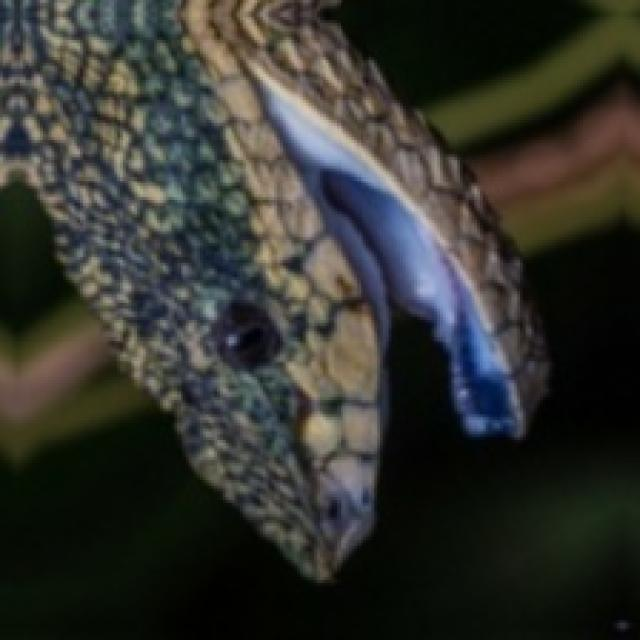north ph temple pitviper: (0, 0, 546, 580)
